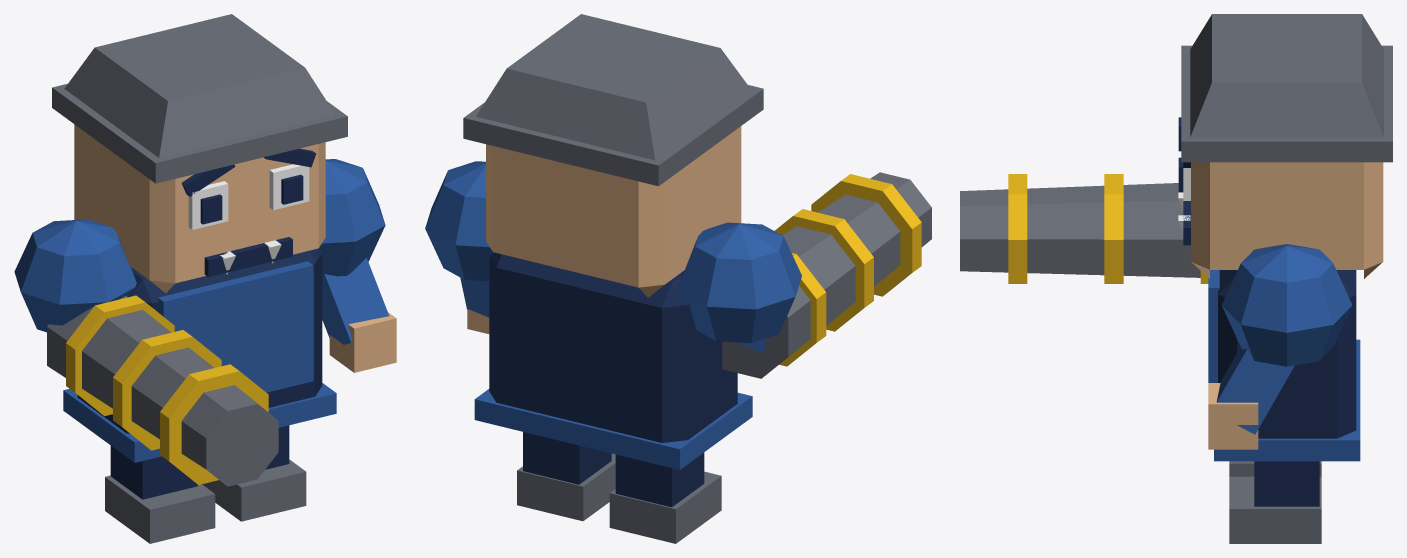
The model's file is breacher_r13.glb.
3 views of the same model, side by side, from view 1: azimuth 30°, elevation 25°; view 2: azimuth 150°, elevation 25°; view 3: azimuth 270°, elevation 25° (orthographic). The views are drawn at different scales.
Parts seen in each view (by area): view 1: breacher_r13_mesh; view 2: breacher_r13_mesh; view 3: breacher_r13_mesh.
Boxes of the visible parts, box(x1,y1,x2,y2) form: breacher_r13_mesh: box(14, 14, 396, 543); breacher_r13_mesh: box(425, 14, 931, 543); breacher_r13_mesh: box(960, 14, 1392, 543).
Size of the model in its own units: 1.68 by 2 by 1.72.
1 material, 1 textured.
